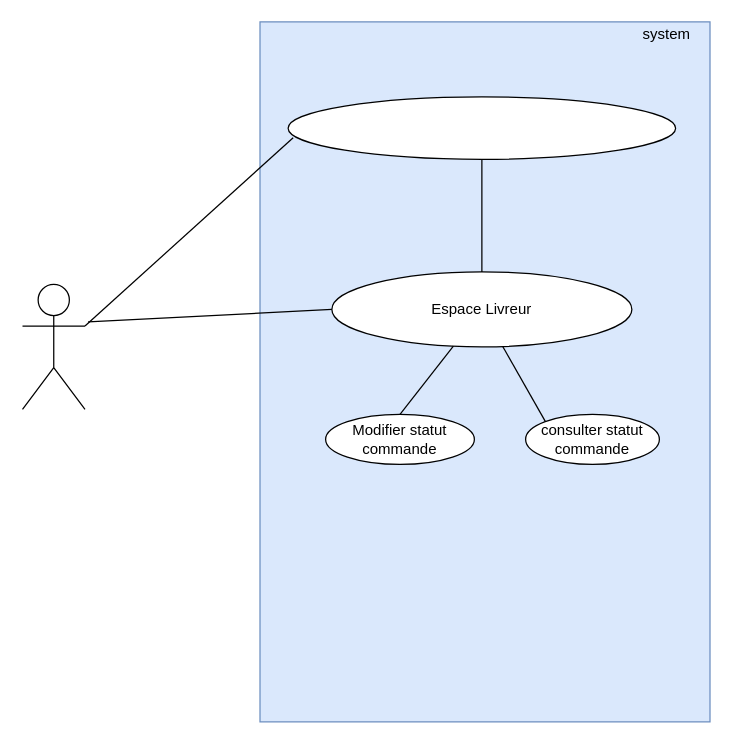
Some shapes in this 731 by 744 pixel diagram are drawn without their labels. Here are the shapes that lost their labels. From the top down, the box of each, then its label:
(287, 96, 676, 159): S'authentifier
(21, 283, 85, 409): Livreur
